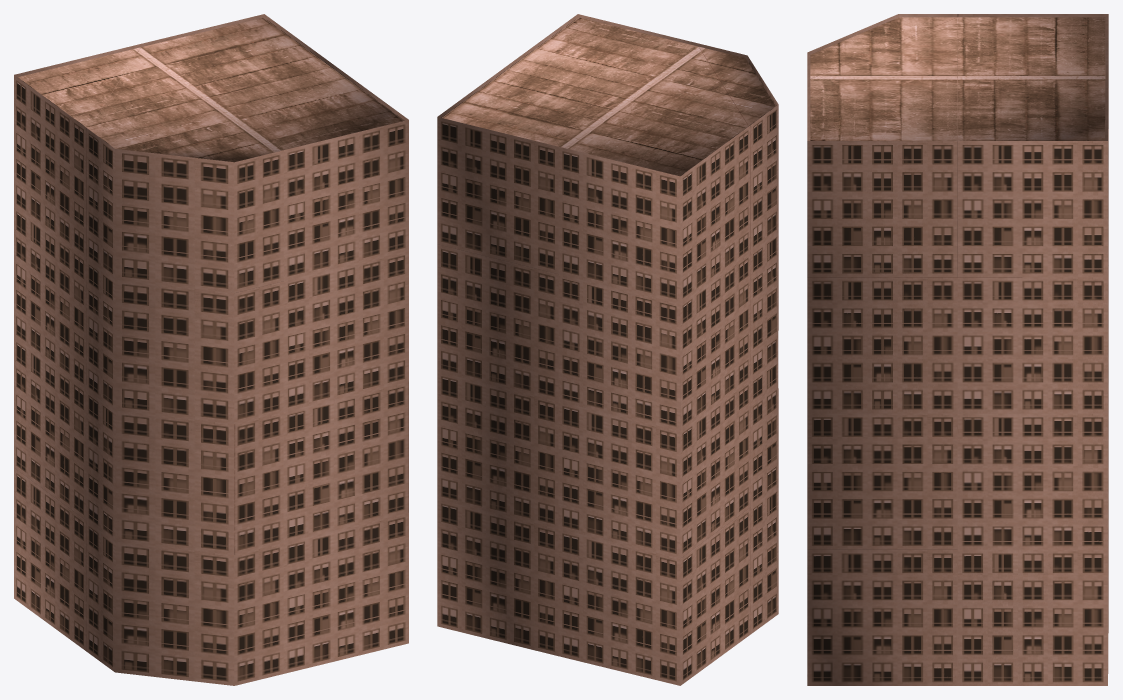
Rendered from building3Low.obj.
The picture shows the model from 3 angles, left to right: view 1: azimuth 30°, elevation 25°; view 2: azimuth 150°, elevation 25°; view 3: azimuth 270°, elevation 25°; orthographic projection. The views are drawn at different scales.
Visible parts, largest first — view 1: building3; view 2: building3; view 3: building3.
Part boxes in pixels (<box>): building3: <box>14,14,408,685</box>; building3: <box>437,14,778,685</box>; building3: <box>807,14,1108,685</box>.
Size of the model in its own units: 25.29 by 50.59 by 25.34.
1 material, 1 textured.
